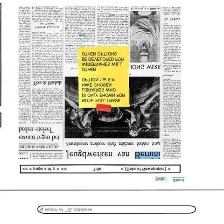news_paper: (8, 0, 188, 189)
